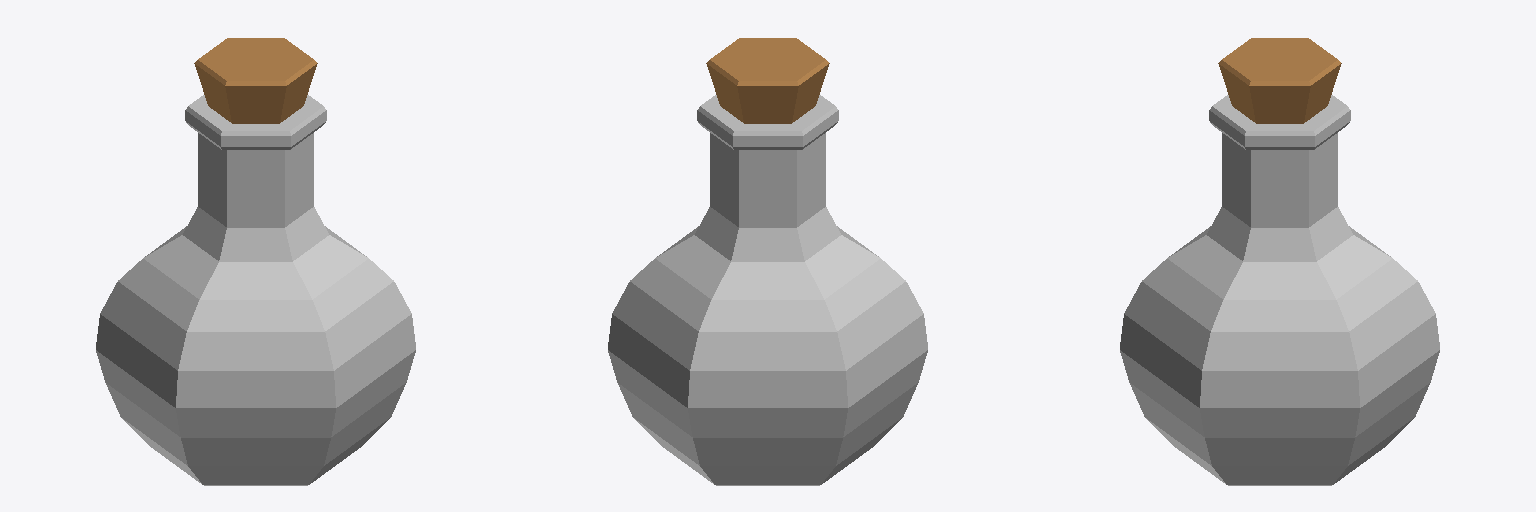
The picture shows the model from 3 angles: view 1: azimuth 30°, elevation 25°; view 2: azimuth 150°, elevation 25°; view 3: azimuth 270°, elevation 25°; orthographic projection.
Parts seen in each view (by area): view 1: Cylinder_Cylinder.001, Cylinder.002_Cylinder.003; view 2: Cylinder_Cylinder.001, Cylinder.002_Cylinder.003; view 3: Cylinder_Cylinder.001, Cylinder.002_Cylinder.003.
Part boxes in pixels (x1,y1,x2,y2): Cylinder_Cylinder.001: (96, 95, 415, 485); Cylinder.002_Cylinder.003: (194, 38, 317, 123); Cylinder_Cylinder.001: (608, 95, 927, 485); Cylinder.002_Cylinder.003: (706, 38, 829, 123); Cylinder_Cylinder.001: (1120, 95, 1439, 485); Cylinder.002_Cylinder.003: (1218, 38, 1341, 123).
Size of the model in its own units: 1.39 by 2.17 by 1.61.
Materials: 3 (3 with a texture image).